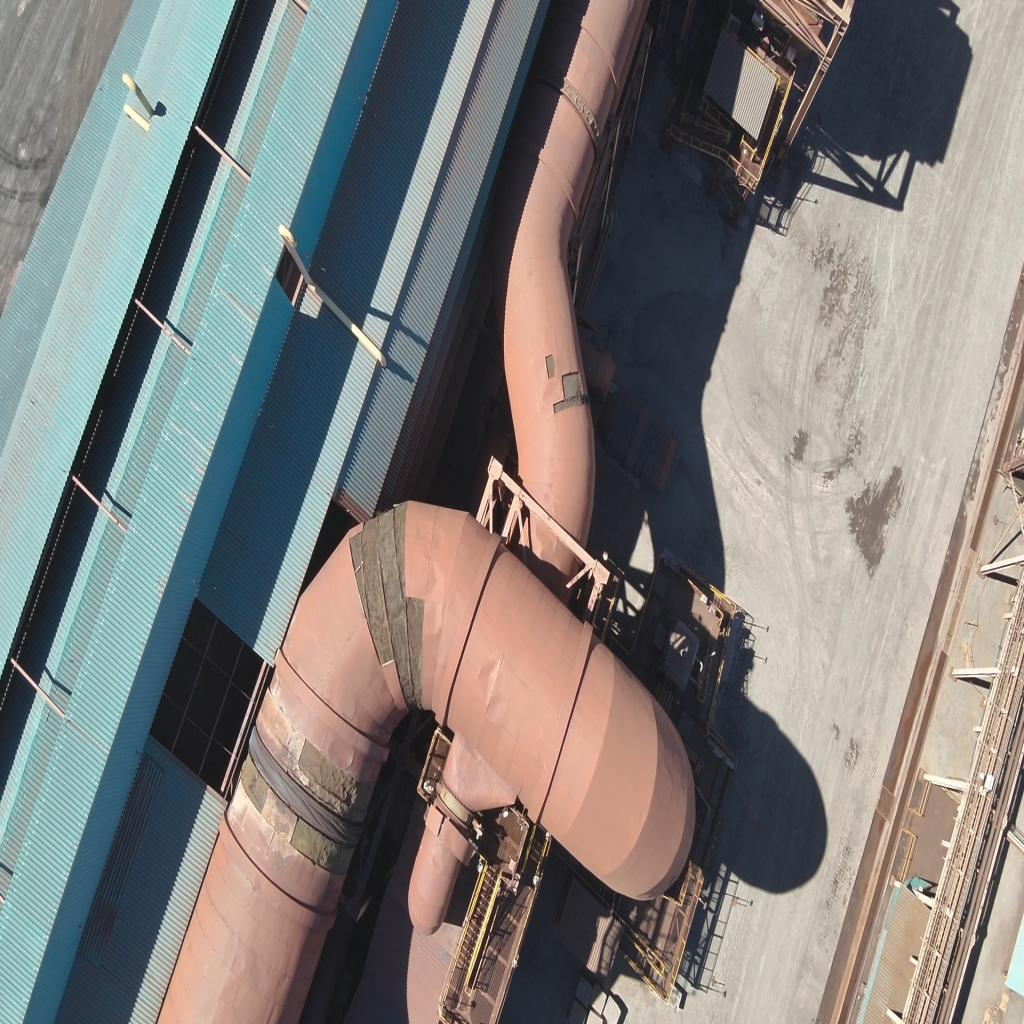Failures: (348, 521, 430, 705), (303, 743, 364, 812), (290, 814, 354, 874), (558, 365, 590, 425), (236, 754, 268, 809), (543, 354, 556, 379)
